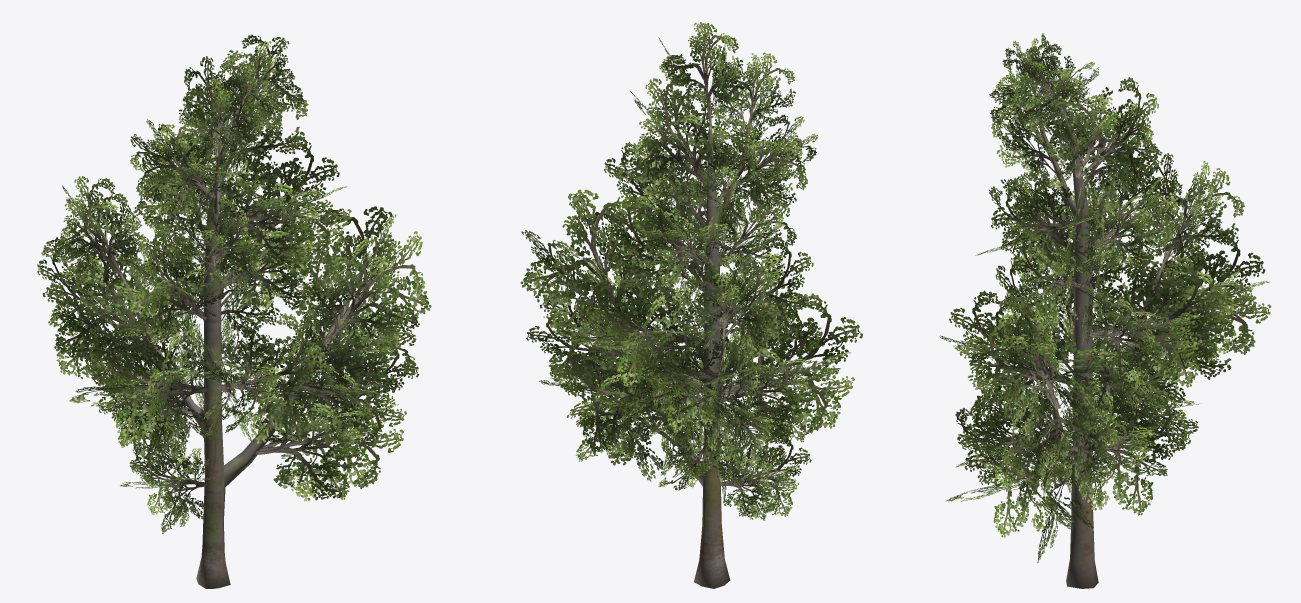
Rendered from Beech.fbx.
3 renders of one model, left to right at view 1: azimuth 30°, elevation 25°; view 2: azimuth 150°, elevation 25°; view 3: azimuth 270°, elevation 25°, orthographic. The views are drawn at different scales.
Visible parts, largest first — view 1: Lod0; view 2: Lod0; view 3: Lod0.
Part boxes in pixels (x1,y1,x2,y2): Lod0: [37, 34, 431, 588]; Lod0: [520, 22, 862, 588]; Lod0: [939, 33, 1271, 588].
Size of what is drawn, in the model's own units: 2211 by 3046 by 1769.
Materials: 2 (2 with a texture image).
